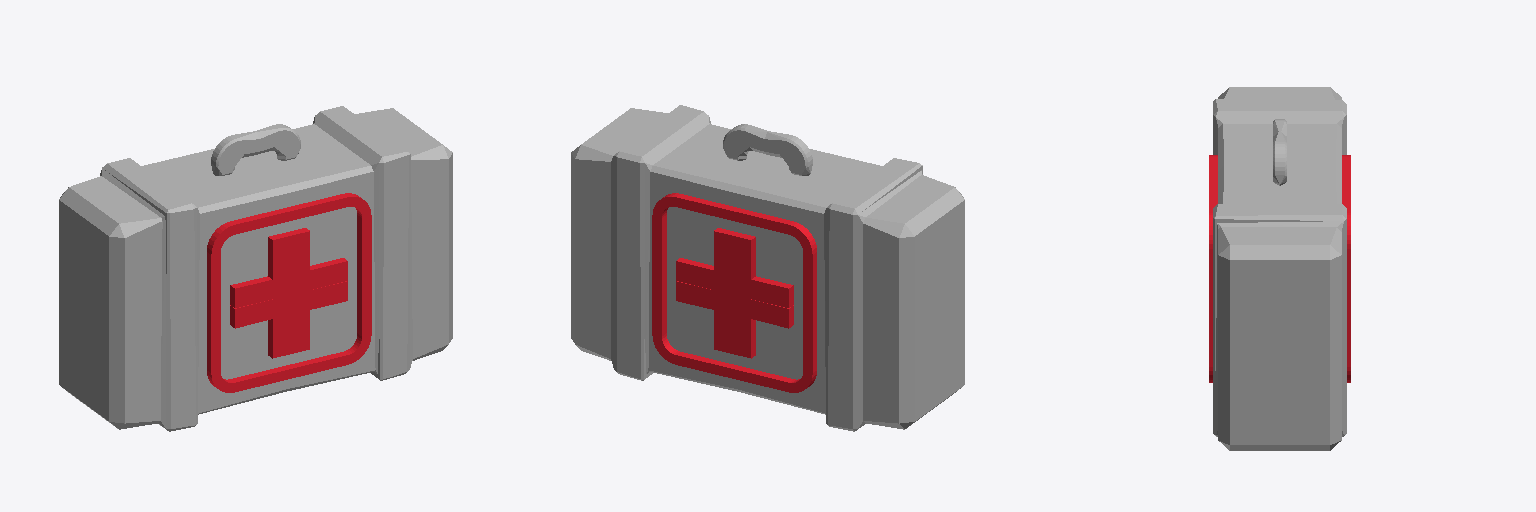
3 views of the same model, side by side, from view 1: azimuth 30°, elevation 25°; view 2: azimuth 150°, elevation 25°; view 3: azimuth 270°, elevation 25° (orthographic).
Parts seen in each view (by area): view 1: Cube.001_Cube; view 2: Cube.001_Cube; view 3: Cube.001_Cube.
Part boxes in pixels (left/top/right/bottom): Cube.001_Cube: left=59, top=106, right=452, bottom=431; Cube.001_Cube: left=571, top=105, right=964, bottom=431; Cube.001_Cube: left=1209, top=87, right=1350, bottom=450.
Size of the model in its own units: 3.49 by 2.42 by 1.25.
1 materials, 1 textured.